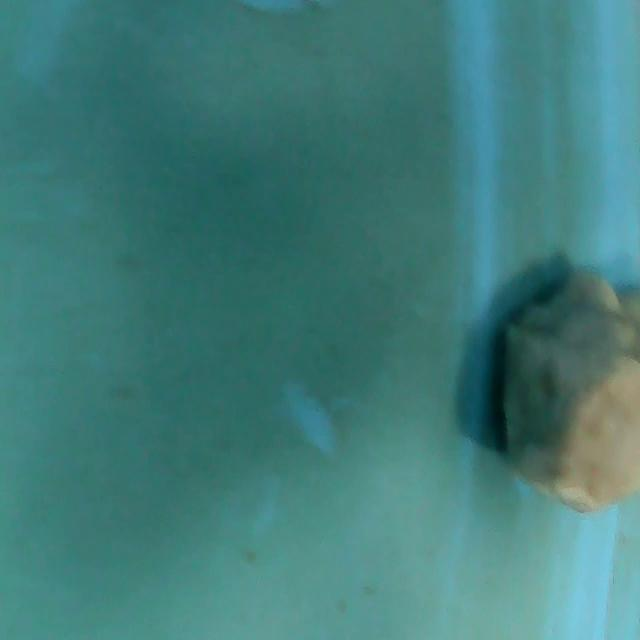rock: (487, 263, 640, 520)
